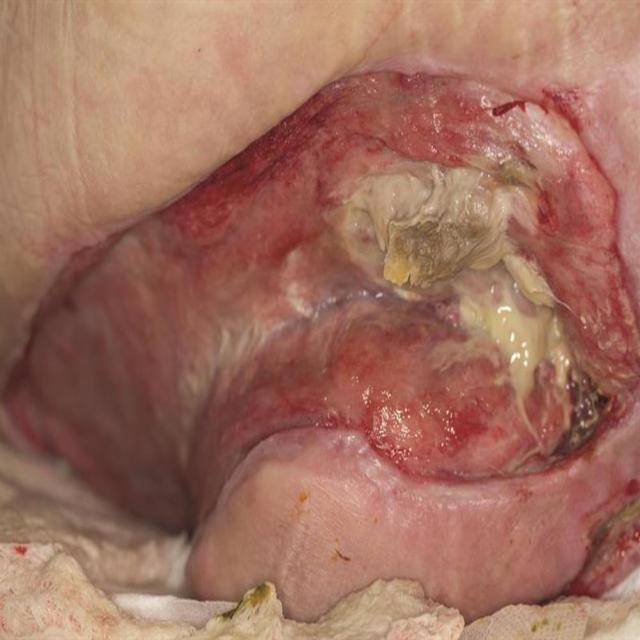stage-4: (6, 73, 638, 522)
